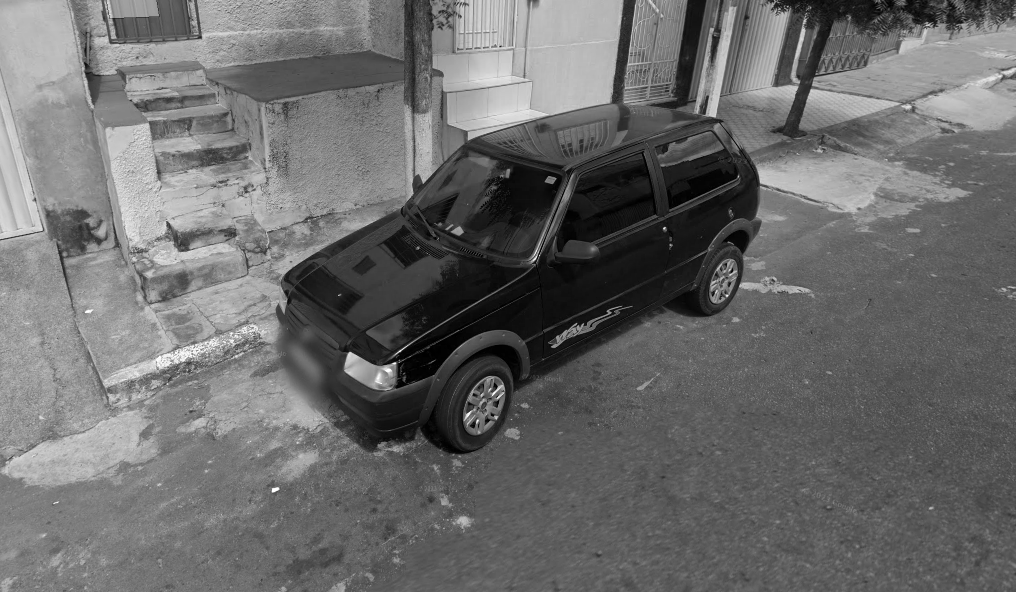car: (270, 96, 767, 459)
